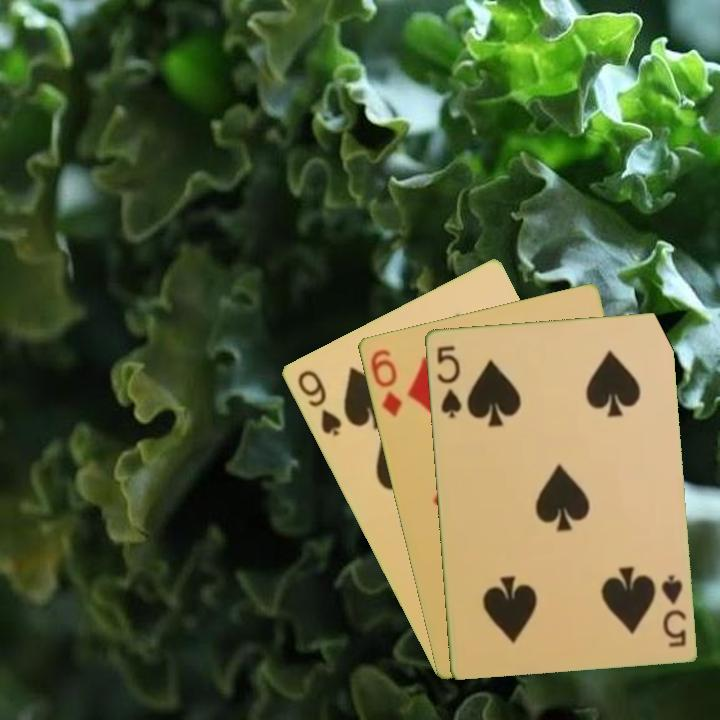5s: (657, 571, 689, 650), (433, 341, 464, 421)
6d: (366, 345, 404, 419)
9s: (293, 366, 344, 439)
